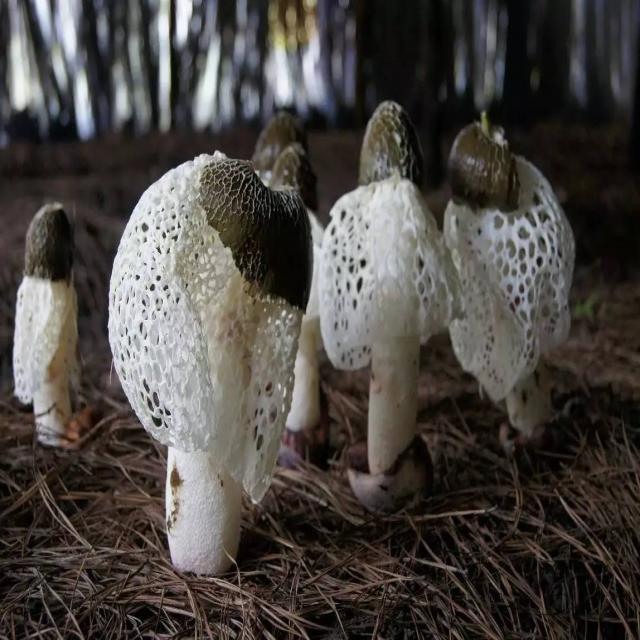Dictyophora indusiate: (109, 154, 312, 580), (315, 101, 457, 475), (435, 125, 579, 426), (14, 198, 87, 437)
